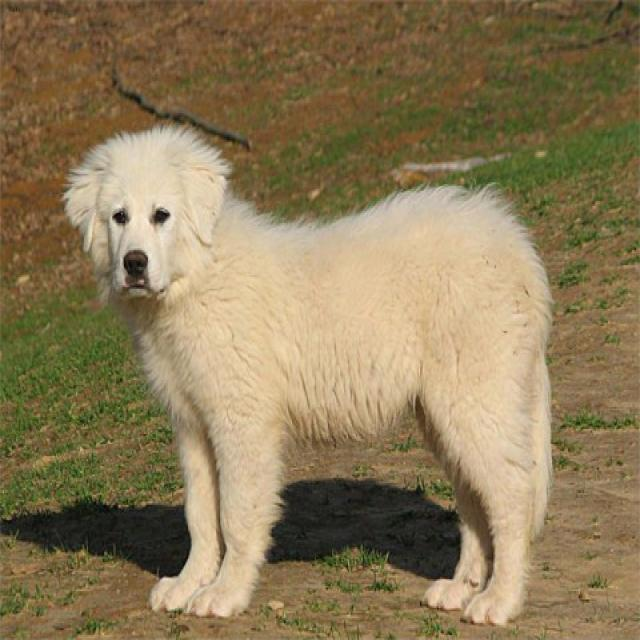dog: (64, 124, 223, 296)
